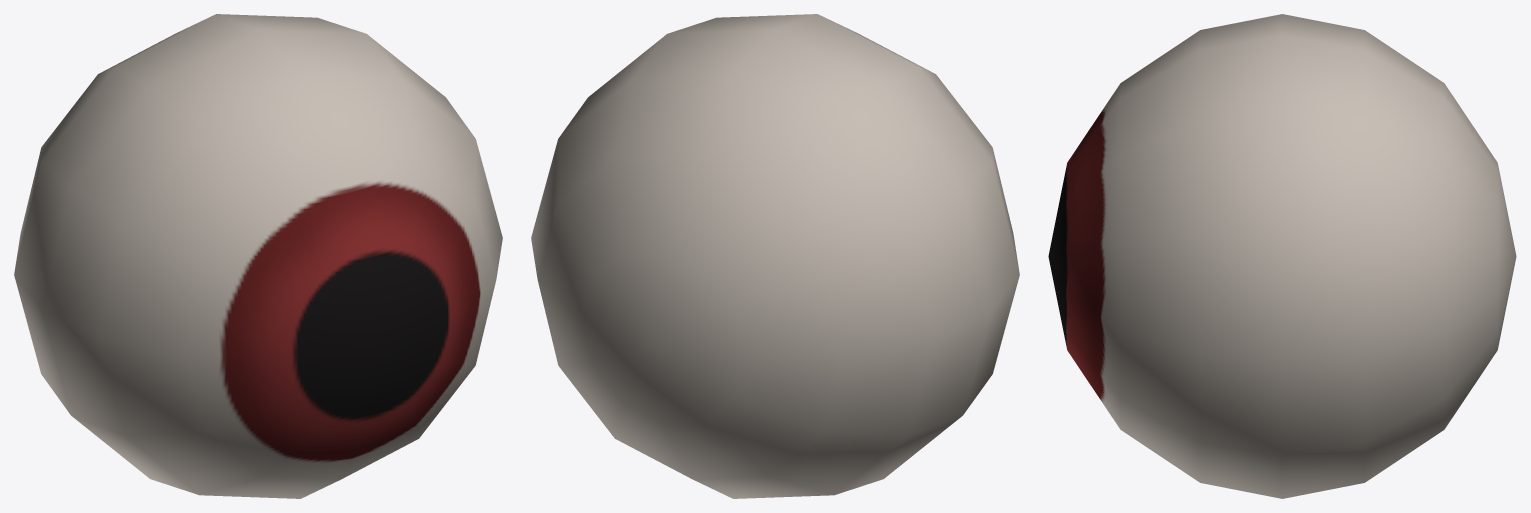
The model's file is bossDoor_wholeEyeBall.fbx.
3 renders of one model, left to right at view 1: azimuth 30°, elevation 25°; view 2: azimuth 150°, elevation 25°; view 3: azimuth 270°, elevation 25°, orthographic. The views are drawn at different scales.
Parts seen in each view (by area): view 1: eyeBall_whole; view 2: eyeBall_whole; view 3: eyeBall_whole.
Boxes of the visible parts, <box> form: eyeBall_whole: <box>14,14,502,498</box>; eyeBall_whole: <box>531,14,1019,498</box>; eyeBall_whole: <box>1048,14,1516,498</box>.
Bounding box in the file's own units: 128 × 128 × 123.
1 material, 1 textured.
